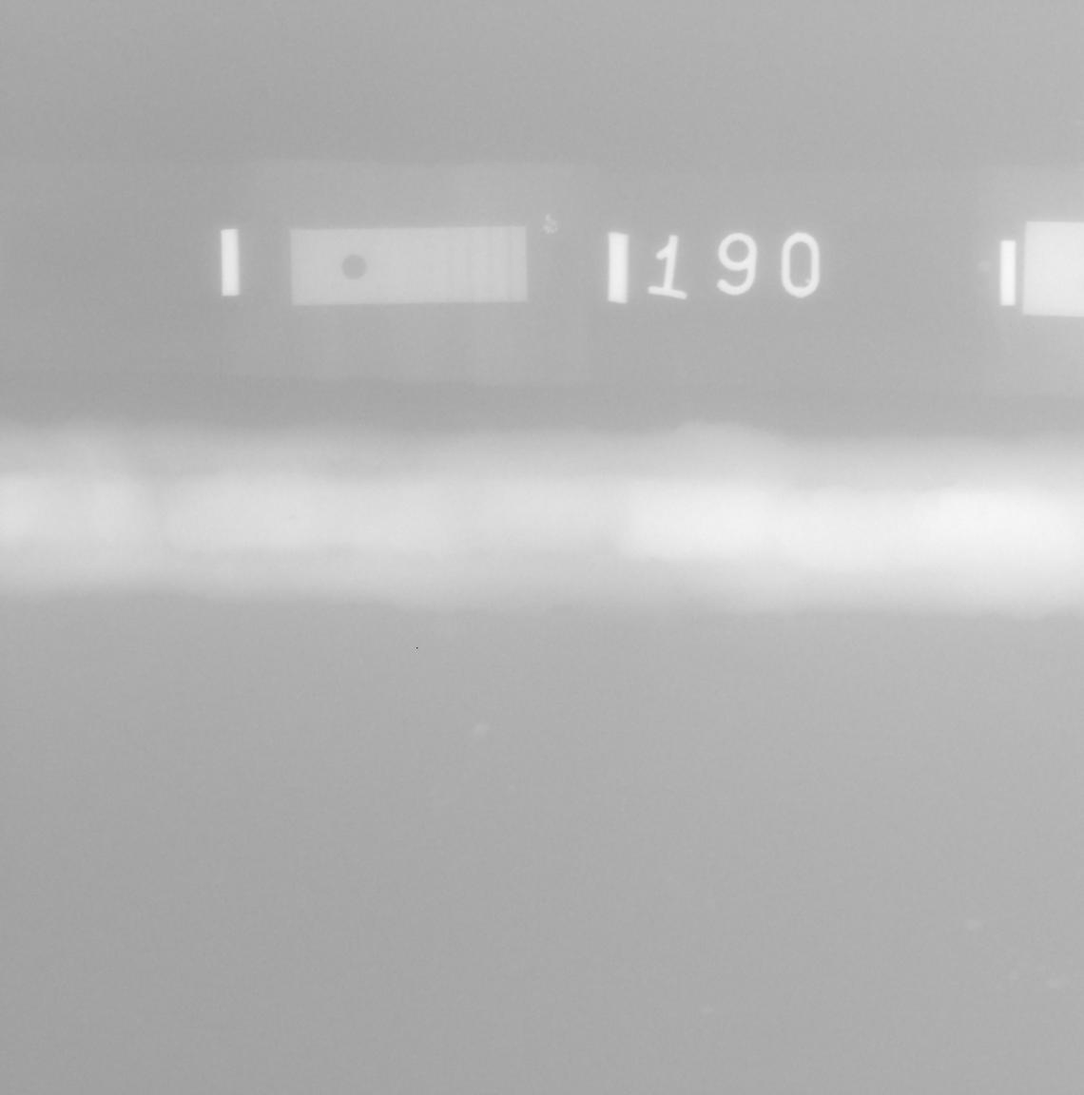Pore/Porosity: (291, 516, 295, 519)
